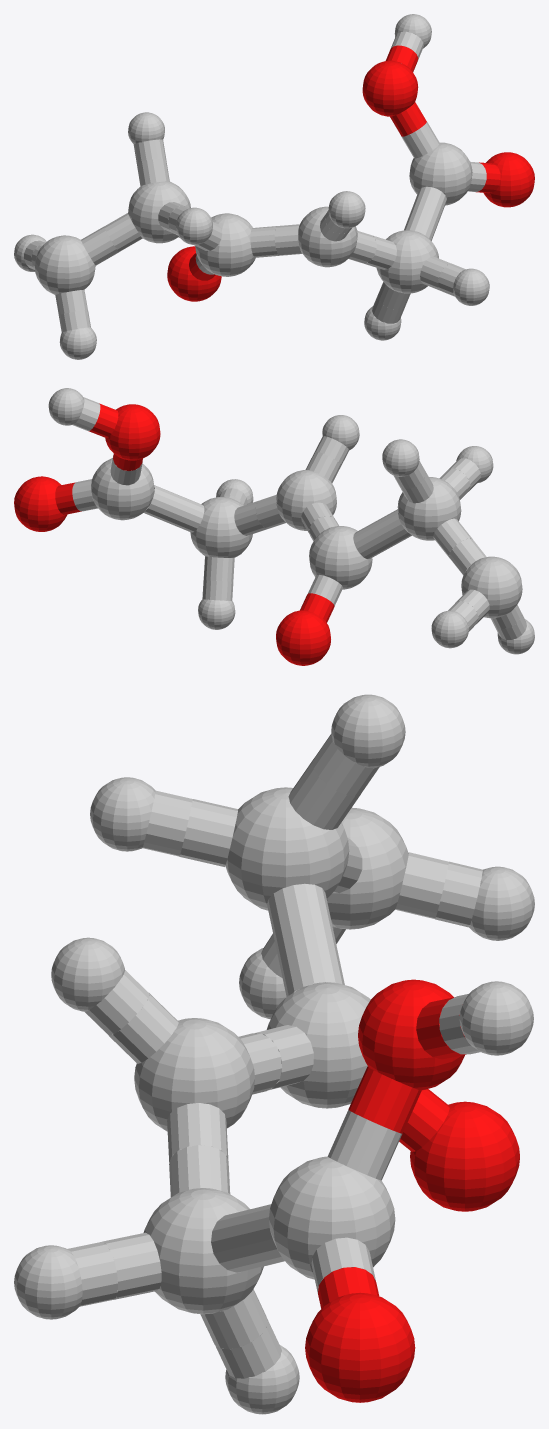
Rendered from dipeptide.obj.
3 views of the same model, one above another, from view 1: azimuth 30°, elevation 25°; view 2: azimuth 150°, elevation 25°; view 3: azimuth 270°, elevation 25° (orthographic). The views are drawn at different scales.
Visible parts, largest first — view 1: Shape_Sphere.004_Shape_Sphere.022, Shape_Sphere.008_Shape_Sphere.026, Shape_Sphere.001_Shape_Sphere.019, Shape_Sphere.006_Shape_Sphere.024, Shape_Sphere.005_Shape_Sphere.023, Shape_Sphere.007_Shape_Sphere.025, Shape_Sphere.003_Shape_Sphere.021, Shape_Sphere.002_Shape_Sphere.020, Shape_Sphere_Shape_Sphere.018, Shape_Cylinder.020_Shape_Cylinder.050, Shape_Sphere.011_Shape_Sphere.029, Shape_Sphere.013_Shape_Sphere.031 (+26 smaller); view 2: Shape_Sphere.006_Shape_Sphere.024, Shape_Sphere.004_Shape_Sphere.022, Shape_Sphere.005_Shape_Sphere.023, Shape_Sphere.008_Shape_Sphere.026, Shape_Sphere_Shape_Sphere.018, Shape_Sphere.007_Shape_Sphere.025, Shape_Sphere.003_Shape_Sphere.021, Shape_Sphere.001_Shape_Sphere.019, Shape_Sphere.002_Shape_Sphere.020, Shape_Cylinder.020_Shape_Cylinder.050, Shape_Cylinder.025_Shape_Cylinder.055, Shape_Sphere.012_Shape_Sphere.030 (+32 smaller); view 3: Shape_Sphere.008_Shape_Sphere.026, Shape_Sphere.007_Shape_Sphere.025, Shape_Sphere.002_Shape_Sphere.020, Shape_Sphere.003_Shape_Sphere.021, Shape_Sphere.005_Shape_Sphere.023, Shape_Sphere_Shape_Sphere.018, Shape_Sphere.006_Shape_Sphere.024, Shape_Sphere.001_Shape_Sphere.019, Shape_Sphere.004_Shape_Sphere.022, Shape_Cylinder.025_Shape_Cylinder.055, Shape_Sphere.016_Shape_Sphere, Shape_Sphere.012_Shape_Sphere.030 (+30 smaller).
Part boxes in pixels (x1=…): Shape_Sphere.004_Shape_Sphere.022: x1=35, y1=235, x2=95, y2=294; Shape_Sphere.008_Shape_Sphere.026: x1=409, y1=142, x2=472, y2=205; Shape_Sphere.001_Shape_Sphere.019: x1=362, y1=60, x2=418, y2=116; Shape_Sphere.006_Shape_Sphere.024: x1=195, y1=213, x2=255, y2=276; Shape_Sphere.005_Shape_Sphere.023: x1=376, y1=230, x2=438, y2=293; Shape_Sphere.007_Shape_Sphere.025: x1=128, y1=181, x2=190, y2=243; Shape_Sphere.003_Shape_Sphere.021: x1=298, y1=206, x2=357, y2=267; Shape_Sphere.002_Shape_Sphere.020: x1=483, y1=152, x2=534, y2=207; Shape_Sphere_Shape_Sphere.018: x1=167, y1=246, x2=221, y2=301; Shape_Cylinder.020_Shape_Cylinder.050: x1=404, y1=186, x2=446, y2=240; Shape_Sphere.011_Shape_Sphere.029: x1=328, y1=191, x2=365, y2=228; Shape_Sphere.013_Shape_Sphere.031: x1=176, y1=207, x2=212, y2=244; Shape_Sphere.006_Shape_Sphere.024: x1=309, y1=526, x2=372, y2=589; Shape_Sphere.004_Shape_Sphere.022: x1=461, y1=556, x2=522, y2=618; Shape_Sphere.005_Shape_Sphere.023: x1=190, y1=497, x2=252, y2=557; Shape_Sphere.008_Shape_Sphere.026: x1=91, y1=458, x2=154, y2=520; Shape_Sphere_Shape_Sphere.018: x1=276, y1=610, x2=330, y2=665; Shape_Sphere.007_Shape_Sphere.025: x1=397, y1=477, x2=461, y2=540; Shape_Sphere.003_Shape_Sphere.021: x1=276, y1=470, x2=336, y2=530; Shape_Sphere.001_Shape_Sphere.019: x1=105, y1=404, x2=160, y2=460; Shape_Sphere.002_Shape_Sphere.020: x1=14, y1=476, x2=67, y2=531; Shape_Cylinder.020_Shape_Cylinder.050: x1=143, y1=485, x2=204, y2=532; Shape_Cylinder.025_Shape_Cylinder.055: x1=353, y1=509, x2=411, y2=558; Shape_Sphere.012_Shape_Sphere.030: x1=382, y1=439, x2=419, y2=476; Shape_Sphere.008_Shape_Sphere.026: x1=269, y1=1156, x2=395, y2=1279; Shape_Sphere.007_Shape_Sphere.025: x1=225, y1=787, x2=349, y2=910; Shape_Sphere.002_Shape_Sphere.020: x1=305, y1=1292, x2=415, y2=1402; Shape_Sphere.003_Shape_Sphere.021: x1=134, y1=1018, x2=254, y2=1131; Shape_Sphere.005_Shape_Sphere.023: x1=143, y1=1188, x2=263, y2=1314; Shape_Sphere_Shape_Sphere.018: x1=410, y1=1101, x2=519, y2=1211; Shape_Sphere.006_Shape_Sphere.024: x1=266, y1=982, x2=370, y2=1108; Shape_Sphere.001_Shape_Sphere.019: x1=358, y1=979, x2=464, y2=1090; Shape_Sphere.004_Shape_Sphere.022: x1=326, y1=807, x2=408, y2=929; Shape_Cylinder.025_Shape_Cylinder.055: x1=267, y1=883, x2=344, y2=996; Shape_Sphere.016_Shape_Sphere: x1=459, y1=981, x2=533, y2=1055; Shape_Sphere.012_Shape_Sphere.030: x1=331, y1=694, x2=405, y2=768.
Size of the model in its own units: 2.04 by 1.01 by 0.9339.
